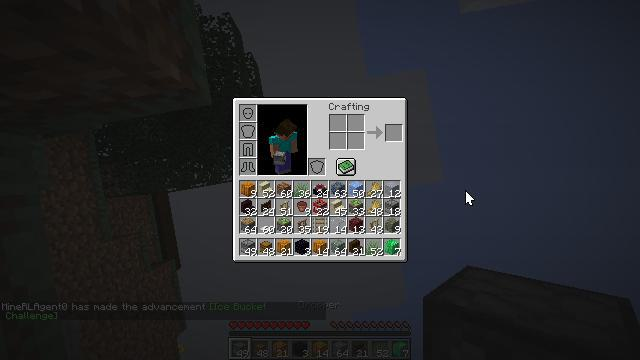cursor: (465, 190, 475, 206)
